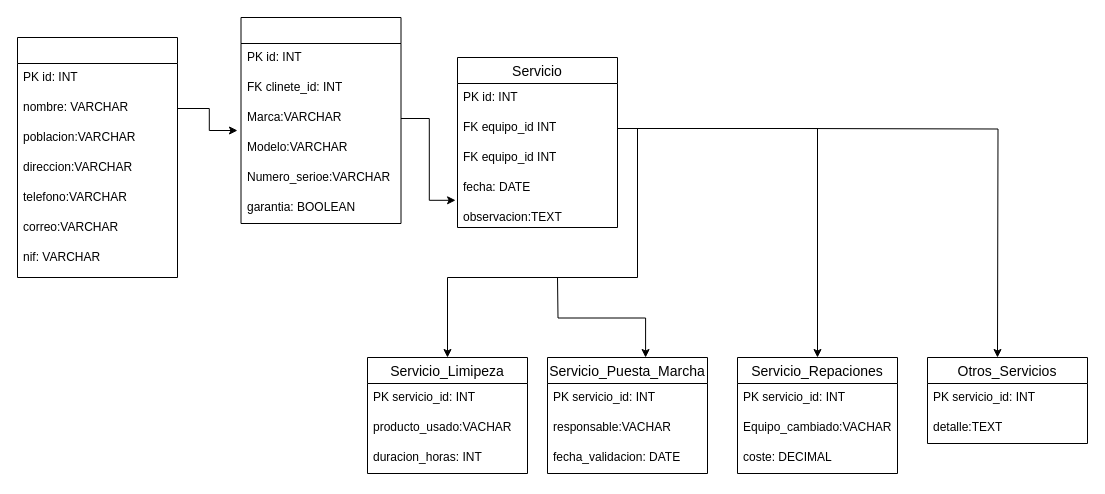
Some shapes in this 1105 by 494 pixel diagram are drawn without their labels. Here are the shapes that lost their labels. From the top down, the box of each, then its label:
(240, 16, 401, 224): Equipo
(16, 36, 178, 278): Cliente
